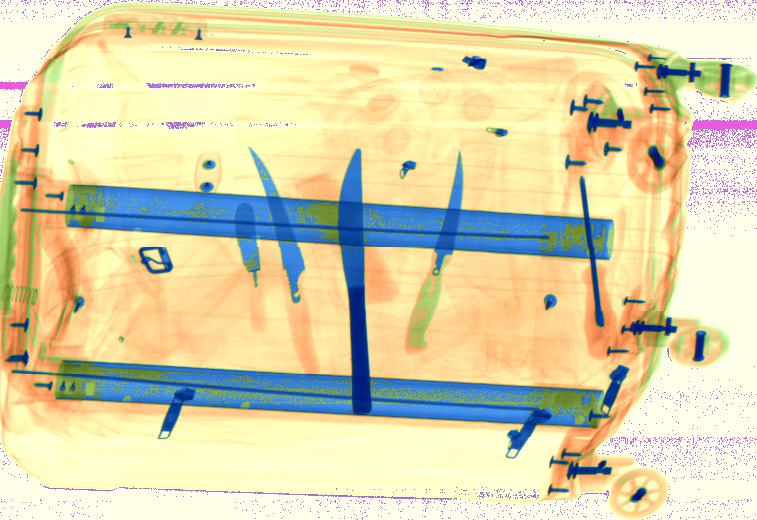Knife: (247, 144, 320, 372), (405, 149, 467, 354), (336, 149, 374, 415), (233, 203, 267, 332)
